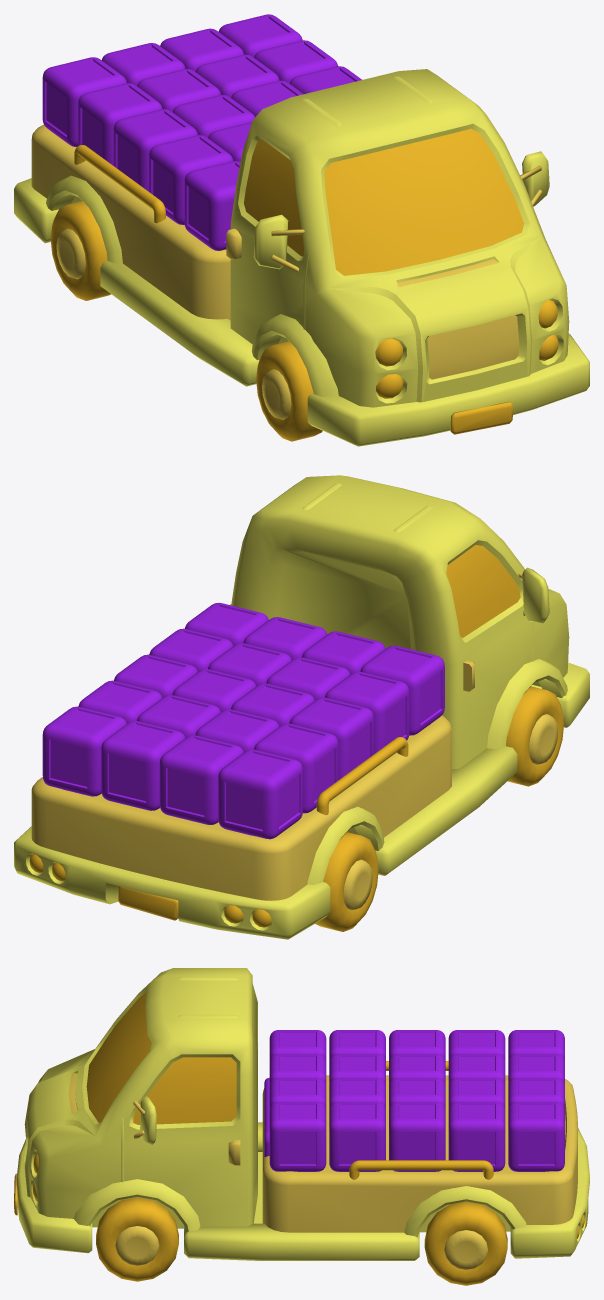
File: Yellow-Truck.fbx
The picture shows the model from 3 angles, top to bottom: view 1: azimuth 30°, elevation 25°; view 2: azimuth 150°, elevation 25°; view 3: azimuth 270°, elevation 25°; orthographic projection. The views are drawn at different scales.
Parts seen in each view (by area): view 1: Truck, Till, Wheel_2A_R.R, Box.002, Box.018, Box.017, Box.009, Box.010, Box.005, Box.006, Box.007, Box.003 (+7 smaller); view 2: Truck, Till, Wheel_2A_R.R, Box.002, Box.003, Box.005, Box.004, Box.018, Box.009, Box.017, Box.010, Box.007 (+12 smaller); view 3: Truck, Till, Wheel_2A_R.R, Box.021, Box.005, Box.014, Box.006, Box.013, Handle_02, Box.007, Box.008, Box.009 (+13 smaller).
Boxes of the visible parts, x1,y1,x2,y2 form: Truck: [14, 69, 589, 446]; Till: [31, 124, 230, 320]; Wheel_2A_R.R: [50, 201, 322, 441]; Box.002: [42, 57, 126, 146]; Box.018: [184, 161, 240, 250]; Box.017: [149, 135, 233, 224]; Box.009: [78, 83, 162, 165]; Box.010: [113, 109, 197, 191]; Box.005: [218, 14, 302, 57]; Box.006: [254, 40, 337, 83]; Box.007: [195, 54, 279, 97]; Box.003: [102, 43, 185, 85]; Truck: [14, 475, 589, 939]; Till: [31, 715, 451, 900]; Wheel_2A_R.R: [315, 686, 563, 931]; Box.002: [218, 749, 302, 839]; Box.003: [159, 735, 243, 824]; Box.005: [42, 706, 126, 796]; Box.004: [101, 721, 185, 810]; Box.018: [360, 645, 444, 735]; Box.009: [254, 723, 338, 813]; Box.017: [325, 671, 409, 753]; Box.010: [289, 697, 373, 779]; Box.007: [137, 695, 220, 737]; Truck: [14, 968, 589, 1260]; Till: [262, 1075, 577, 1232]; Wheel_2A_R.R: [96, 1197, 507, 1285]; Box.021: [269, 1102, 326, 1171]; Box.005: [508, 1102, 564, 1171]; Box.014: [329, 1102, 385, 1171]; Box.006: [448, 1102, 505, 1171]; Box.013: [389, 1102, 445, 1171]; Handle_02: [349, 1160, 493, 1179]; Box.007: [448, 1078, 505, 1109]; Box.008: [448, 1054, 505, 1085]; Box.009: [448, 1030, 505, 1061].
Bounding box in the file's own units: 2.76 × 2.48 × 5.56.
